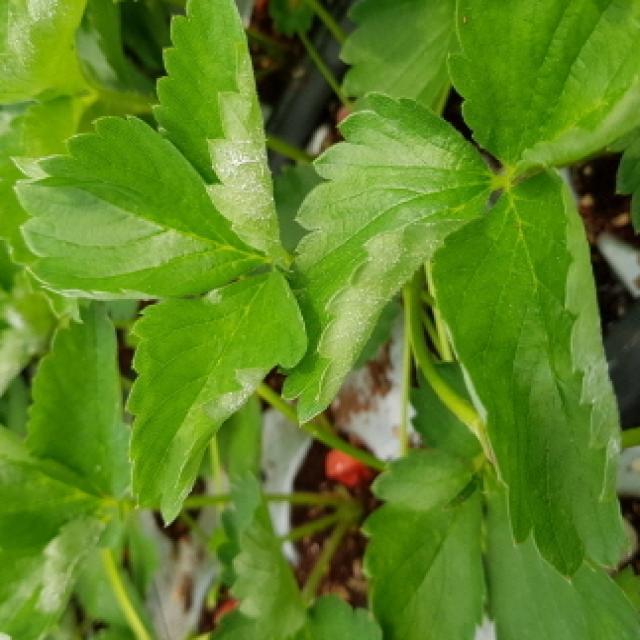Powdery Mildew Leaf: (427, 171, 639, 584), (282, 89, 499, 431), (124, 266, 310, 528), (146, 0, 290, 270), (443, 0, 640, 180), (0, 511, 119, 640), (0, 310, 42, 401)
